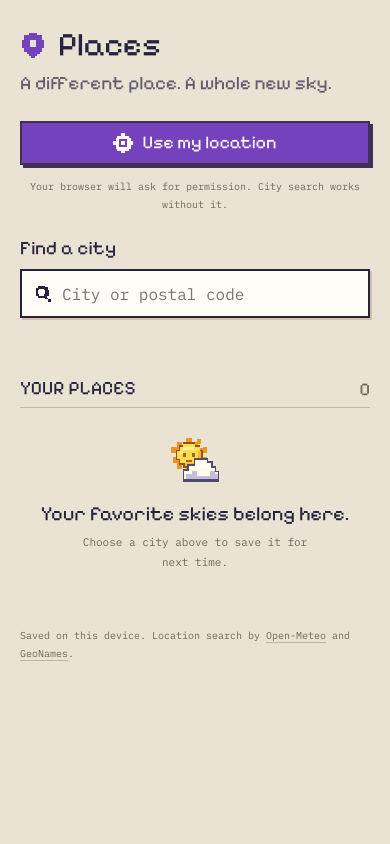
Scenario: ignores an old retry response after the user searches for another city
This screenshot has width=390, height=844.
Type "Asheville" into the search field labelled "Find a city" at coordinates (215, 294), box [62,271,368,316]
Wait 350 ms
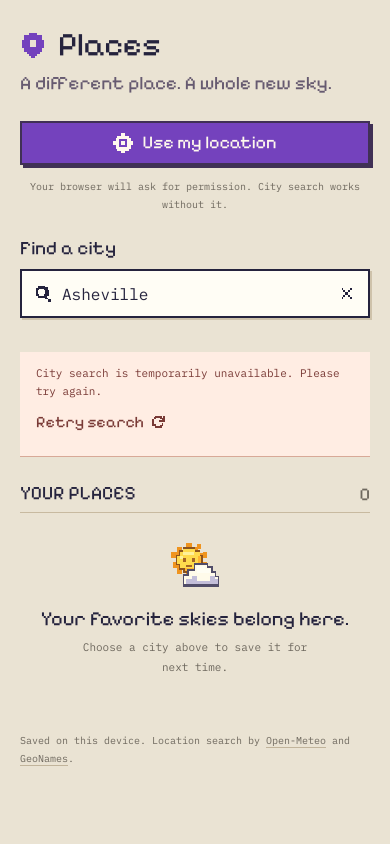
Click the button "Retry search" at coordinates (100, 422), box [36,400,165,444]
Wait 350 ms
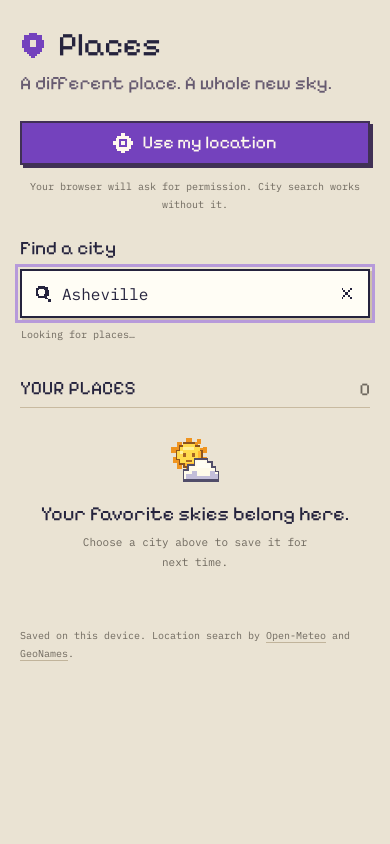
Replace the text in the search field labelled "Find a city" with "Tokyo" at coordinates (188, 294), box [62,271,314,316]
Wait 350 ms
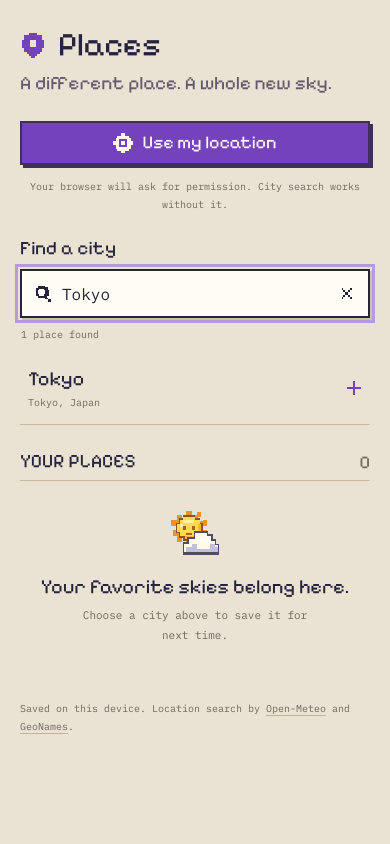
Expected: the button "Tokyo Tokyo, Japan" is shown, [20,352,370,424]
